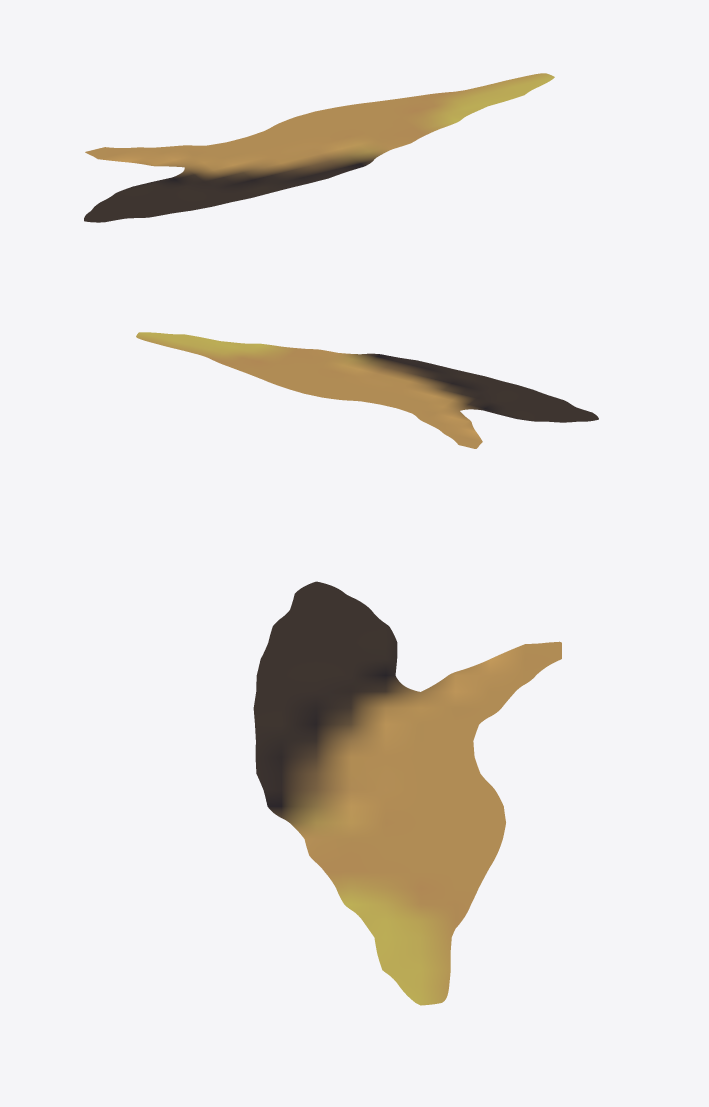
File: HuBian_NighYezi5_fbx.FBX
3 views of the same model, one above another, from view 1: azimuth 30°, elevation 25°; view 2: azimuth 150°, elevation 25°; view 3: azimuth 270°, elevation 25° (orthographic). The views are drawn at different scales.
Parts seen in each view (by area): view 1: Object073; view 2: Object073; view 3: Object073.
Boxes of the visible parts, bbox=[...] form: Object073: bbox=[84, 73, 554, 222]; Object073: bbox=[136, 332, 598, 448]; Object073: bbox=[253, 581, 561, 1005].
Size of the model in its own units: 0.2561 by 5.11e-09 by 0.1168.
Materials: 1 (1 with a texture image).
